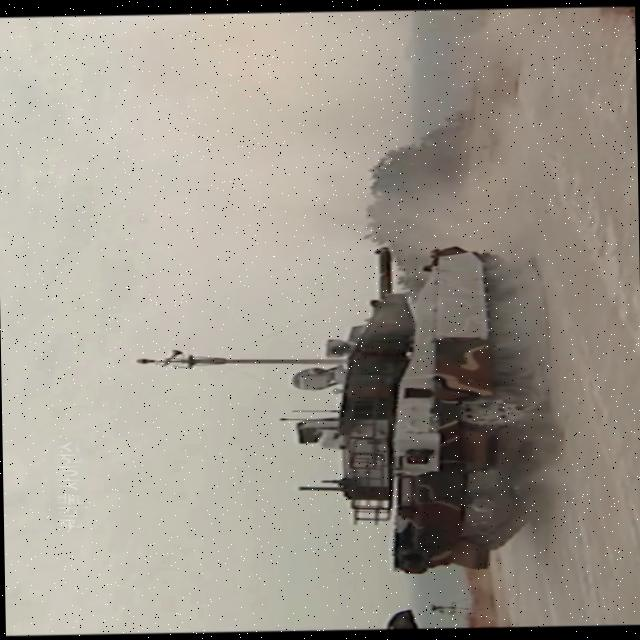korea tank: (286, 242, 558, 576)
